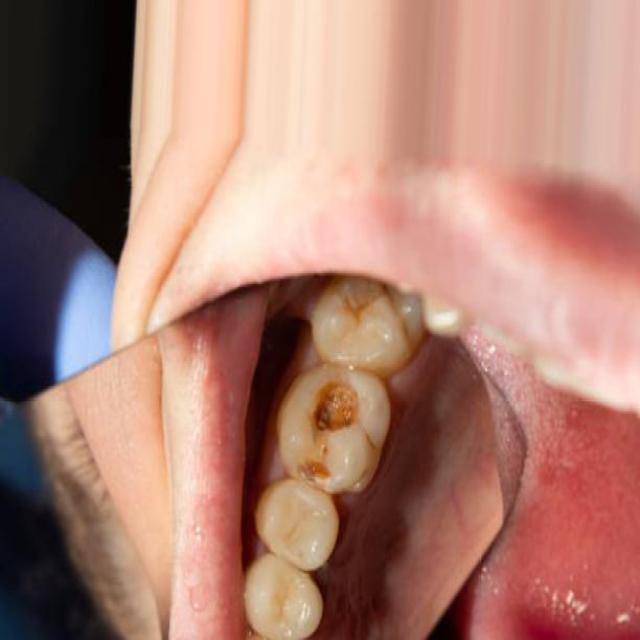caries: (280, 360, 390, 496)
